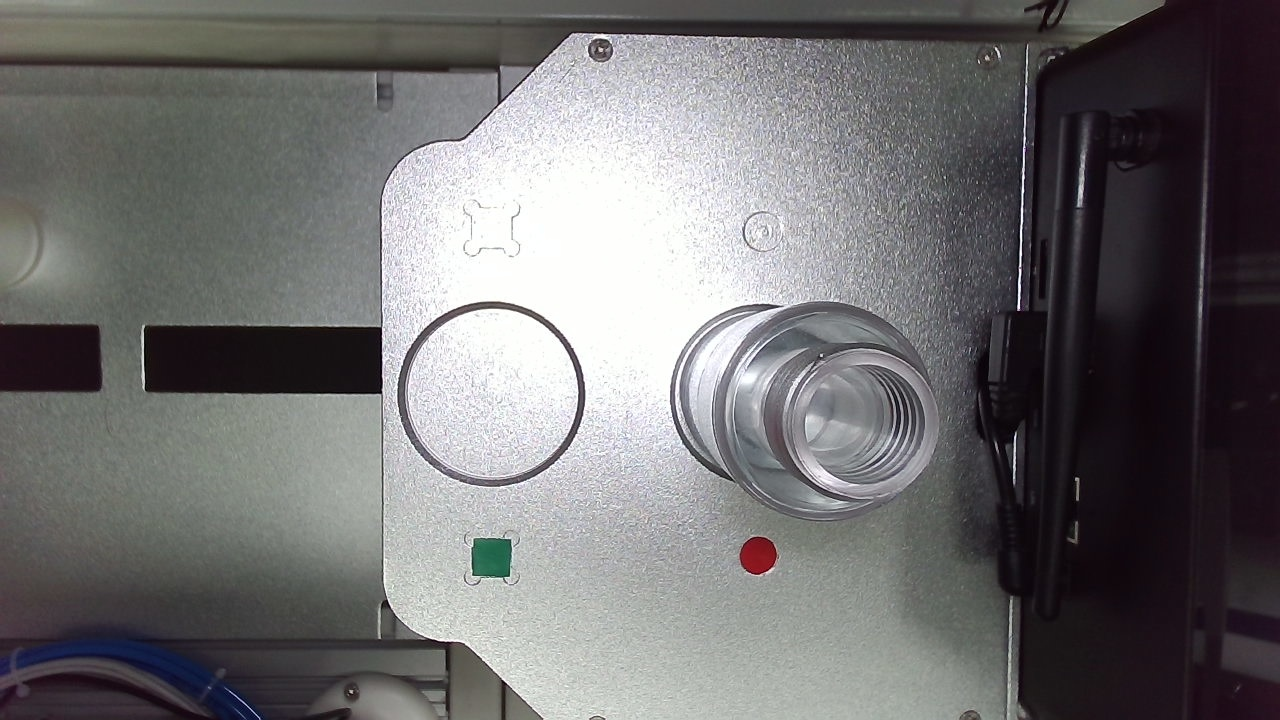XLabel: (218, 126, 285, 193)
YLabel: (639, 159, 712, 232)
none: (494, 294, 832, 630), (53, 253, 382, 586)
